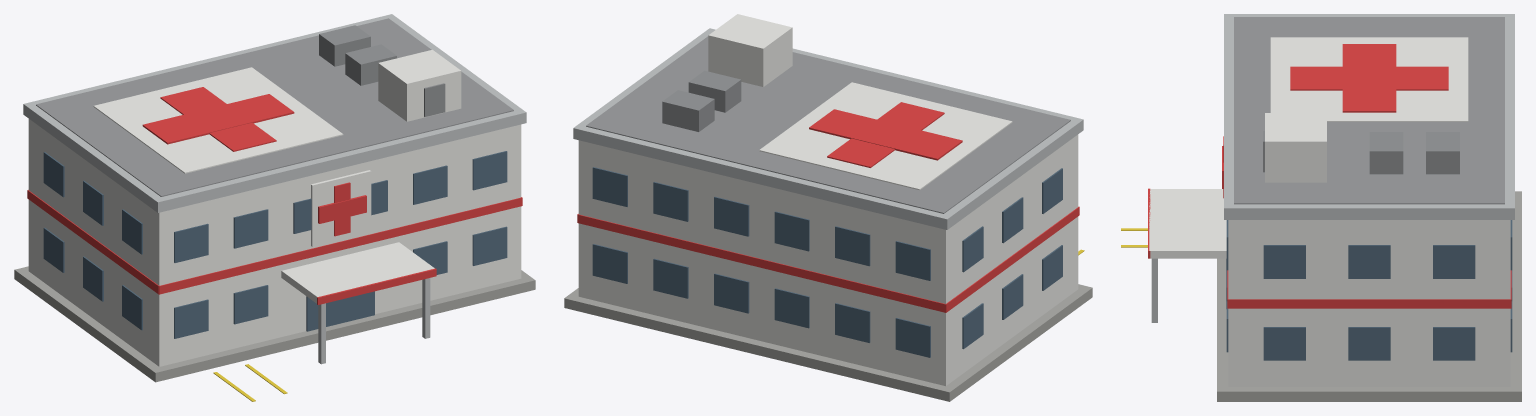
The model's file is hospital.glb.
3 renders of one model, left to right at view 1: azimuth 30°, elevation 25°; view 2: azimuth 150°, elevation 25°; view 3: azimuth 270°, elevation 25°, orthographic. The views are drawn at different scales.
Parts seen in each view (by area): view 1: SP_Hospital; view 2: SP_Hospital; view 3: SP_Hospital.
Part boxes in pixels (left/top/right/bottom): SP_Hospital: left=14, top=14, right=535, bottom=401; SP_Hospital: left=564, top=14, right=1092, bottom=401; SP_Hospital: left=1121, top=14, right=1521, bottom=401.
Bounding box in the file's own units: 16.8 × 9.1 × 14.2.
